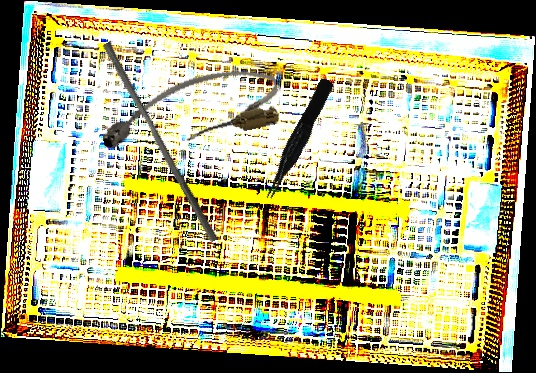Cannula: (94, 60, 285, 161)
Pusher: (94, 40, 227, 244)
Tissue Forceps: (256, 76, 340, 202)
